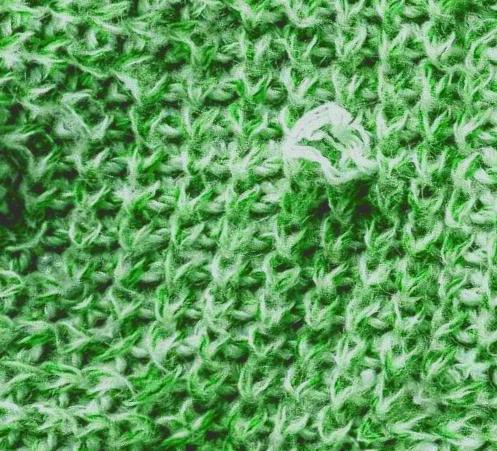snag: (263, 97, 387, 202)
